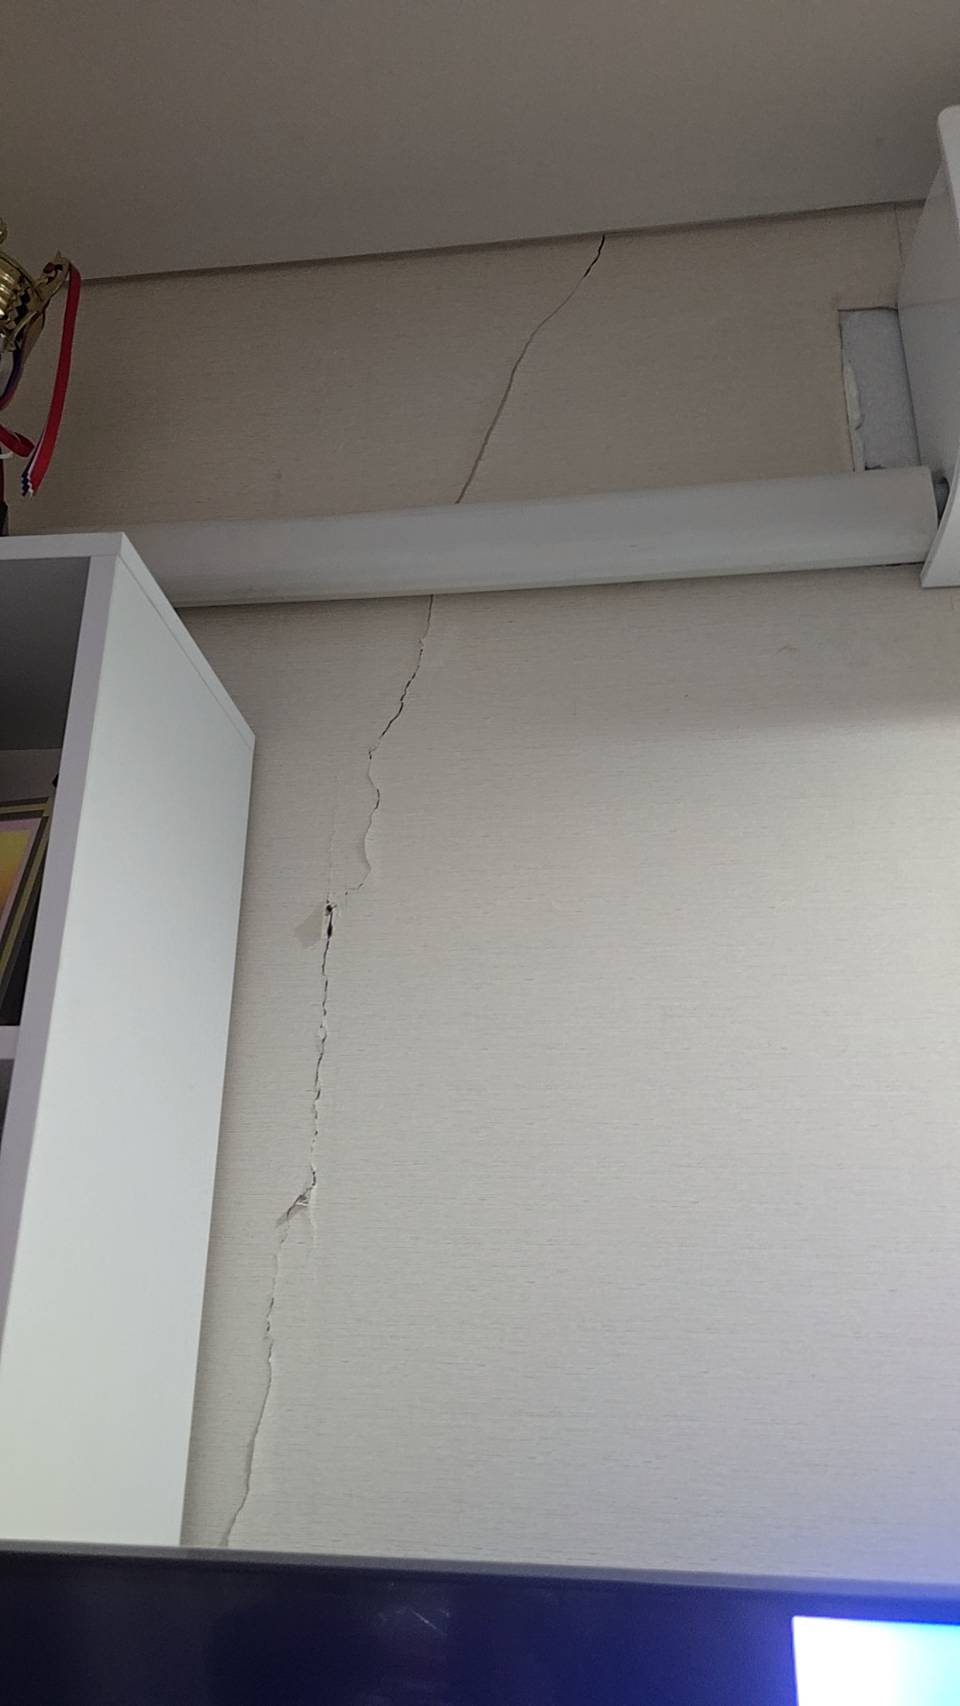Low: (213, 594, 464, 1538)
